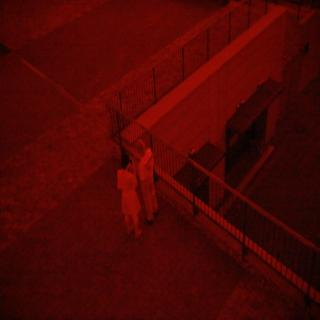person: (135, 132, 172, 226), (110, 150, 141, 241)
